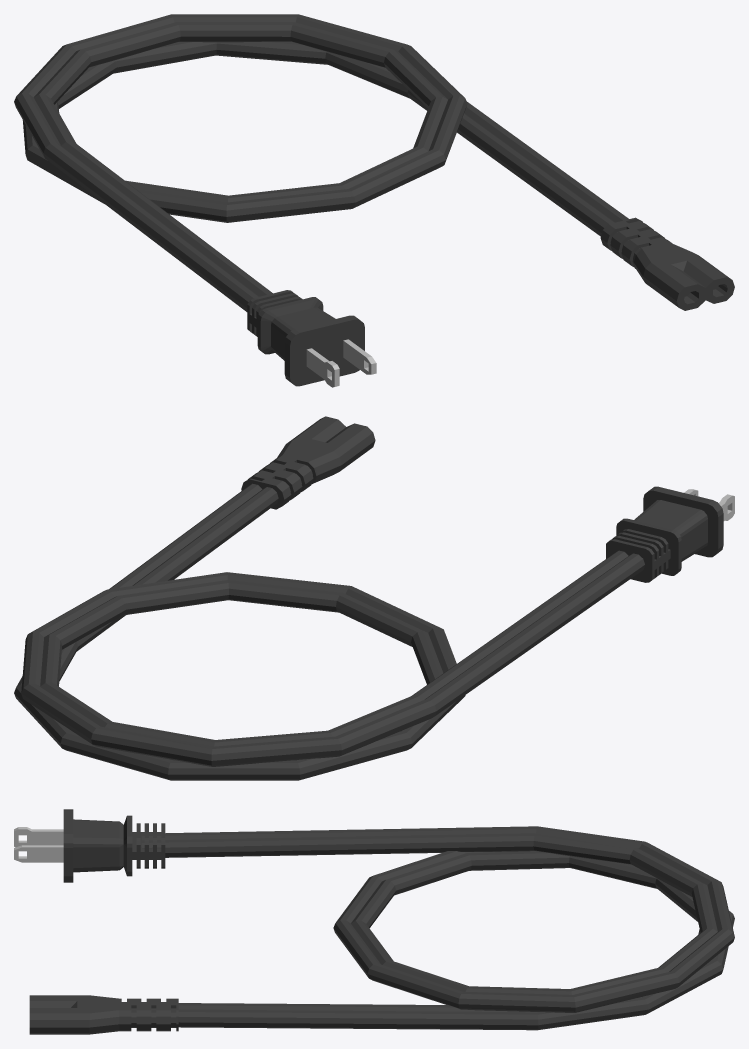
Rendered from 5016b79a-20f8-4015-8992-cf5f999caf91.glb.
3 views of the same model, one above another, from view 1: azimuth 30°, elevation 25°; view 2: azimuth 150°, elevation 25°; view 3: azimuth 270°, elevation 25° (orthographic). The views are drawn at different scales.
Parts seen in each view (by area): view 1: Power_Cord; view 2: Power_Cord; view 3: Power_Cord.
Part boxes in pixels (x1,y1,x2,y2): Power_Cord: [14, 14, 734, 387]; Power_Cord: [14, 416, 734, 780]; Power_Cord: [14, 809, 734, 1034].
Bounding box in the file's own units: 143 × 17.15 × 236.
Materials: 1 (1 with a texture image).
